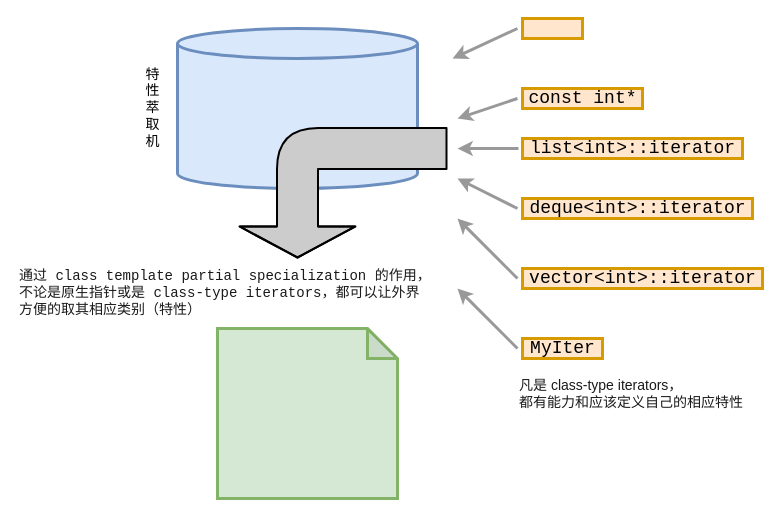
Image size: 781x517. Some labels were removed from this diagram. Each missing label, with the box of its shape:
int*: (520, 16, 584, 40)
iterator_traits: (176, 26, 418, 190)
value type difference type pointer type reference type iterator_category: (216, 326, 398, 500)
